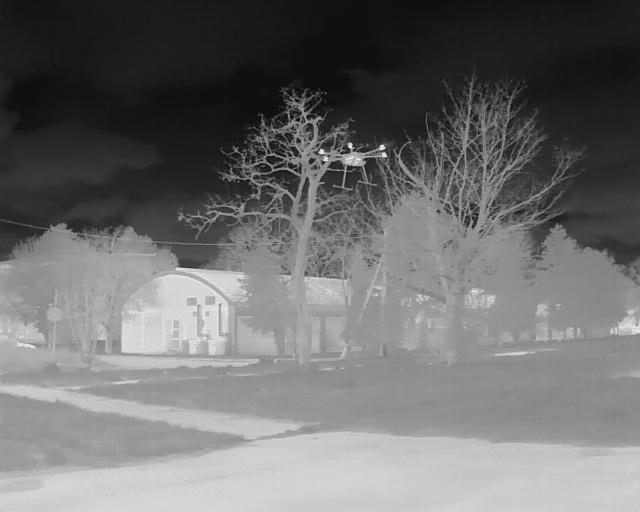drone: (304, 132, 403, 198)
